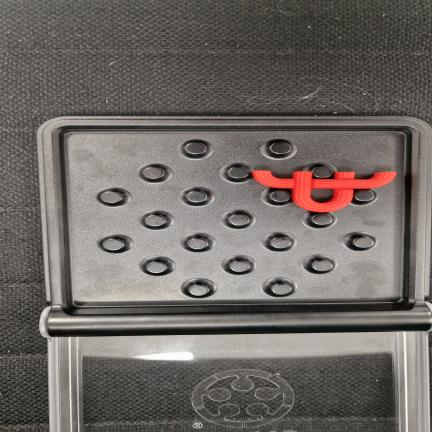E_Red: (254, 171, 395, 212)
board: (37, 117, 432, 336)
hinge: (44, 307, 432, 332)
pin: (185, 141, 207, 155), (100, 191, 123, 204), (270, 141, 291, 155), (311, 213, 333, 226), (144, 214, 166, 227), (102, 238, 124, 251), (352, 236, 374, 249), (228, 166, 249, 179), (270, 190, 291, 203), (228, 213, 249, 226), (187, 237, 208, 250), (229, 260, 250, 273), (146, 261, 167, 274), (143, 167, 165, 179), (186, 191, 208, 203), (269, 237, 291, 249), (311, 260, 333, 272), (270, 283, 292, 295), (354, 190, 375, 202), (188, 284, 209, 296), (313, 166, 333, 178)
